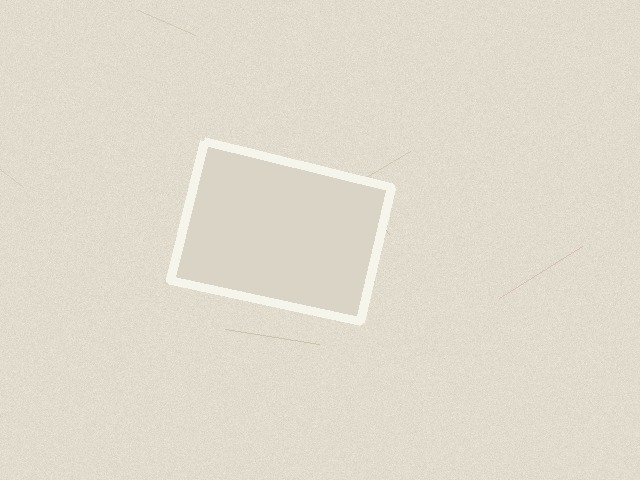parking_area: (170, 141, 391, 321)
